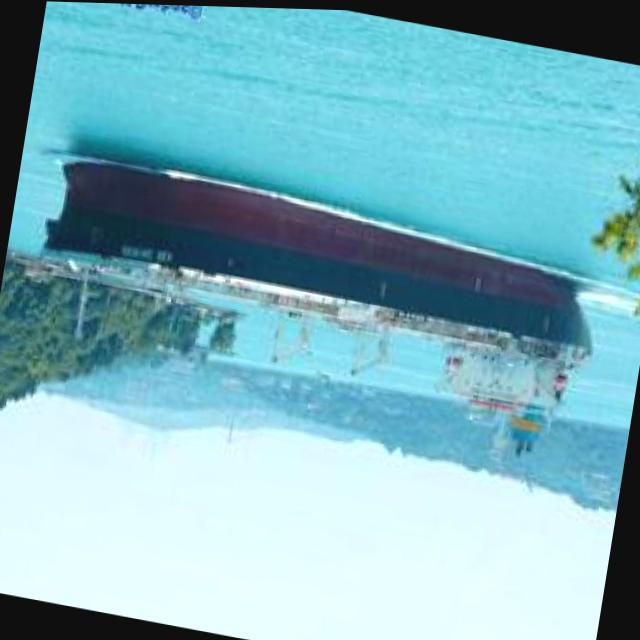ship2: (40, 153, 595, 461)
